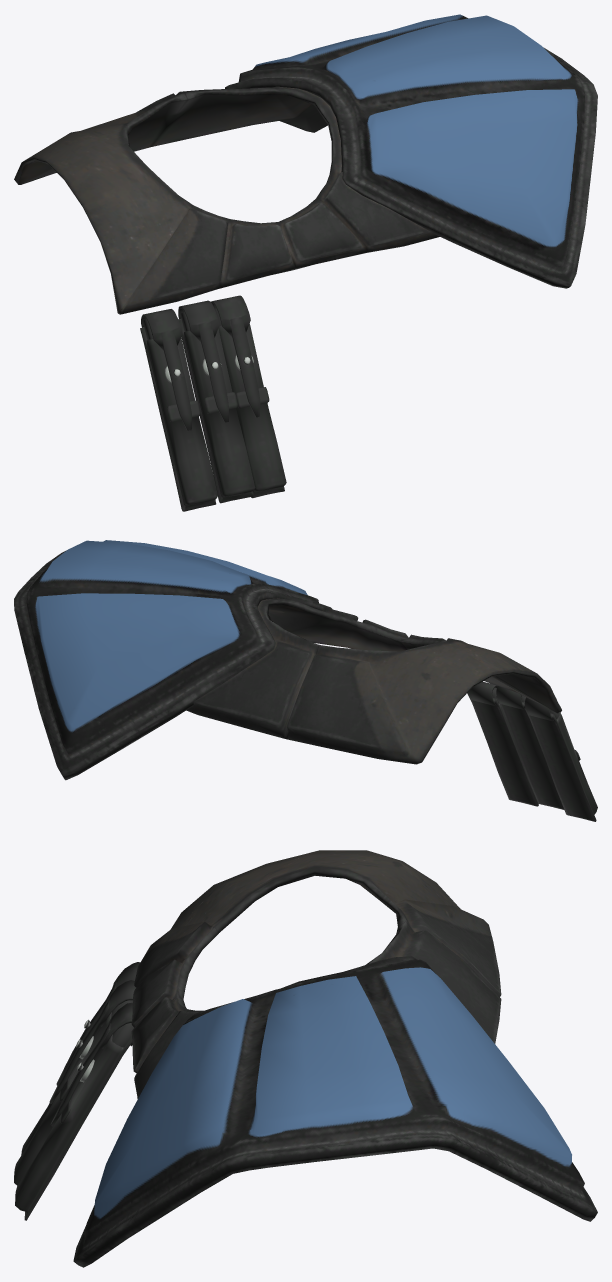
The model's file is Pauldron.fbx.
3 views of the same model, one above another, from view 1: azimuth 30°, elevation 25°; view 2: azimuth 150°, elevation 25°; view 3: azimuth 270°, elevation 25° (orthographic). The views are drawn at different scales.
Parts seen in each view (by area): view 1: captain_rex_pauldron, captain_rex_rex_ammo; view 2: captain_rex_pauldron, captain_rex_rex_ammo; view 3: captain_rex_pauldron, captain_rex_rex_ammo.
Part boxes in pixels (x1,y1,x2,y2): captain_rex_pauldron: [14, 14, 597, 314]; captain_rex_rex_ammo: [140, 295, 286, 511]; captain_rex_pauldron: [14, 540, 560, 780]; captain_rex_rex_ammo: [467, 681, 597, 821]; captain_rex_pauldron: [73, 850, 597, 1267]; captain_rex_rex_ammo: [14, 962, 140, 1220].
Size of the model in its own units: 67.07 by 36.23 by 54.34.
